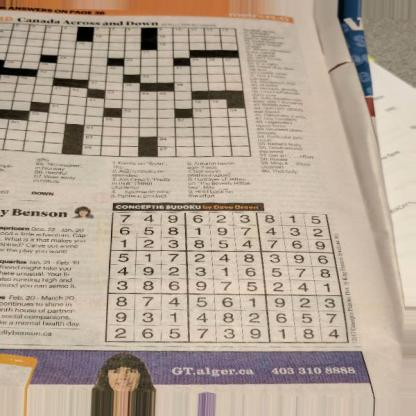sudoku: (104, 210, 352, 345)
